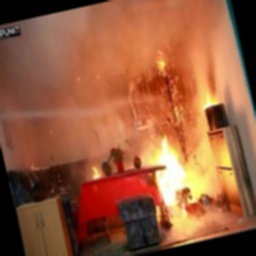fire: (132, 120, 217, 222)
